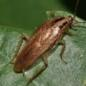cockroach: (14, 15, 74, 74)
